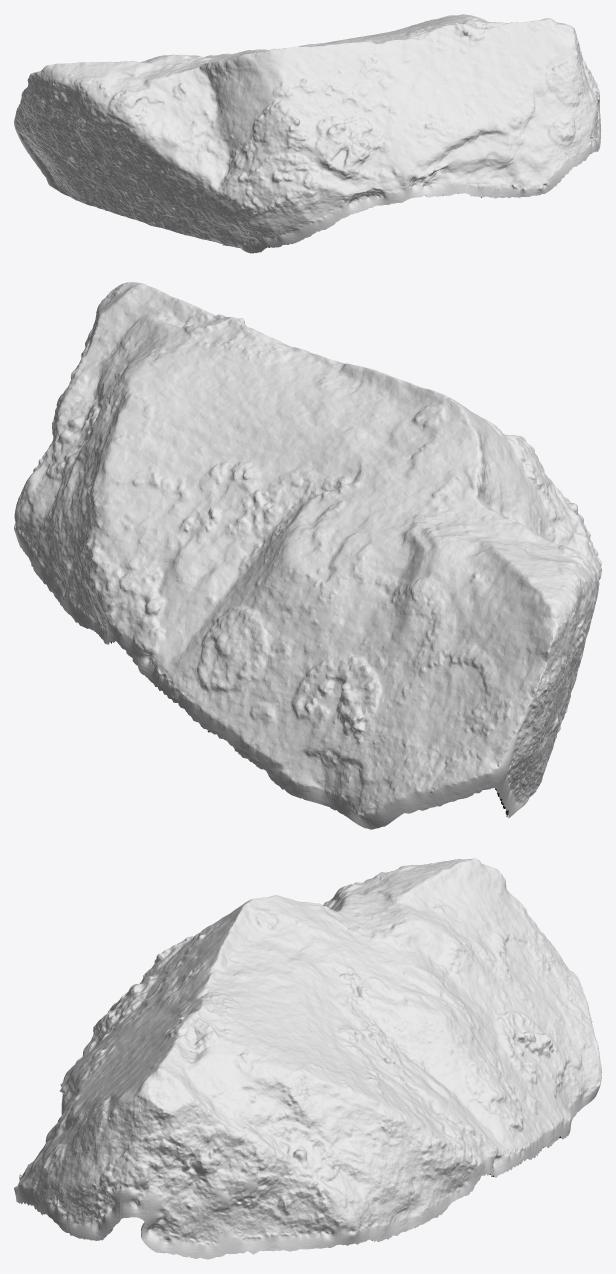
The picture shows the model from 3 angles, top to bottom: view 1: azimuth 30°, elevation 25°; view 2: azimuth 150°, elevation 25°; view 3: azimuth 270°, elevation 25°; orthographic projection. The views are drawn at different scales.
Parts seen in each view (by area): view 1: upr_grs_vntr_1; view 2: upr_grs_vntr_1; view 3: upr_grs_vntr_1.
Boxes of the visible parts, bbox=[...] form: upr_grs_vntr_1: bbox=[14, 14, 601, 253]; upr_grs_vntr_1: bbox=[14, 282, 601, 829]; upr_grs_vntr_1: bbox=[14, 858, 601, 1259].
Bounding box in the file's own units: 1.34 × 0.5135 × 1.13.
2 materials, 2 textured.
